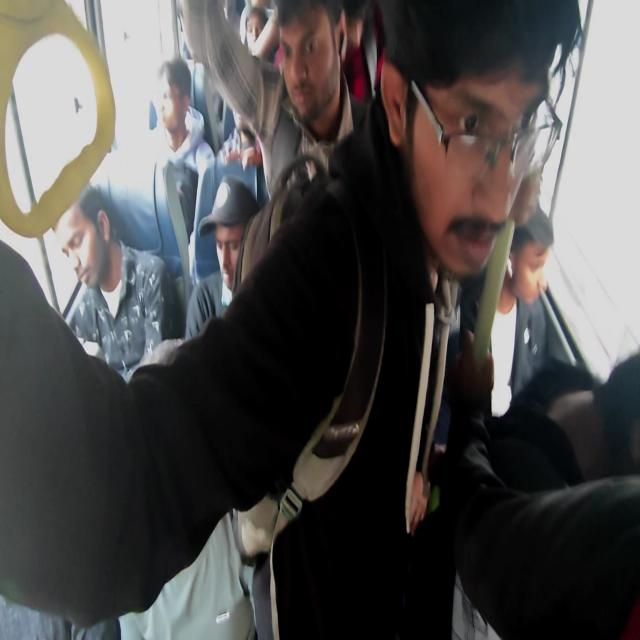person: (1, 0, 584, 638), (440, 195, 639, 638), (53, 184, 179, 384), (184, 174, 260, 340), (496, 199, 556, 405), (154, 55, 216, 242)
